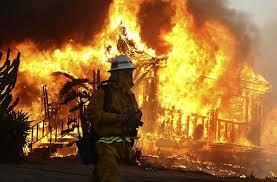fire: (13, 3, 251, 166)
